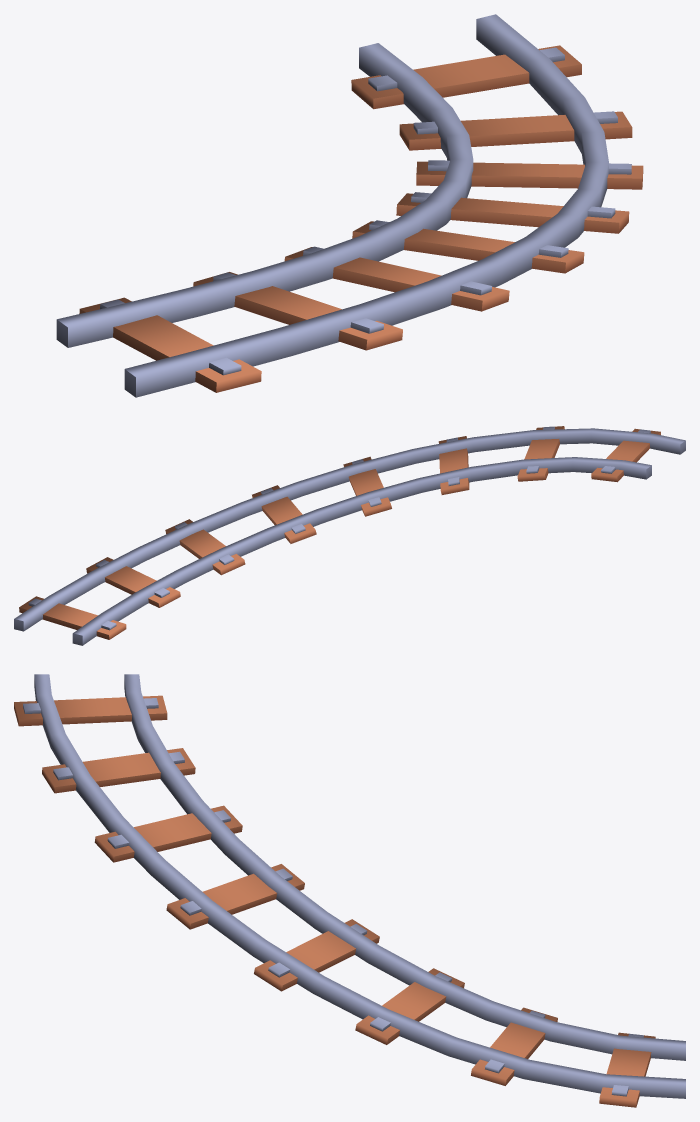
File: railroad-corner-large-ramp.glb
The picture shows the model from 3 angles, top to bottom: view 1: azimuth 30°, elevation 25°; view 2: azimuth 150°, elevation 25°; view 3: azimuth 270°, elevation 25°; orthographic projection. The views are drawn at different scales.
Visible parts, largest first — view 1: railroad-corner-large-ramp; view 2: railroad-corner-large-ramp; view 3: railroad-corner-large-ramp.
Part boxes in pixels (bbox=[...]): railroad-corner-large-ramp: bbox=[56, 14, 643, 397]; railroad-corner-large-ramp: bbox=[14, 426, 685, 645]; railroad-corner-large-ramp: bbox=[14, 674, 685, 1107].
Size of the model in its own units: 4.49 by 1.1 by 4.49.
